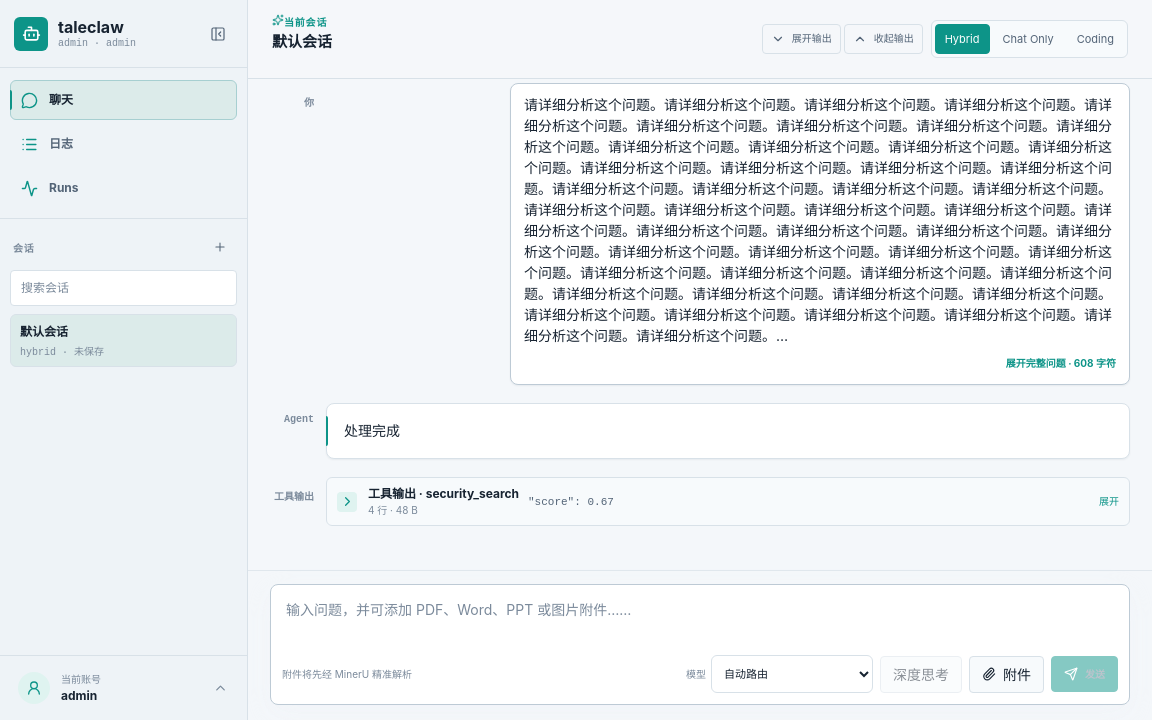
Test: App › opens Logs and Runs and explains the empty state
(page scrolled)
Click the button "日志" at (124, 144), box [10,124,237,164]
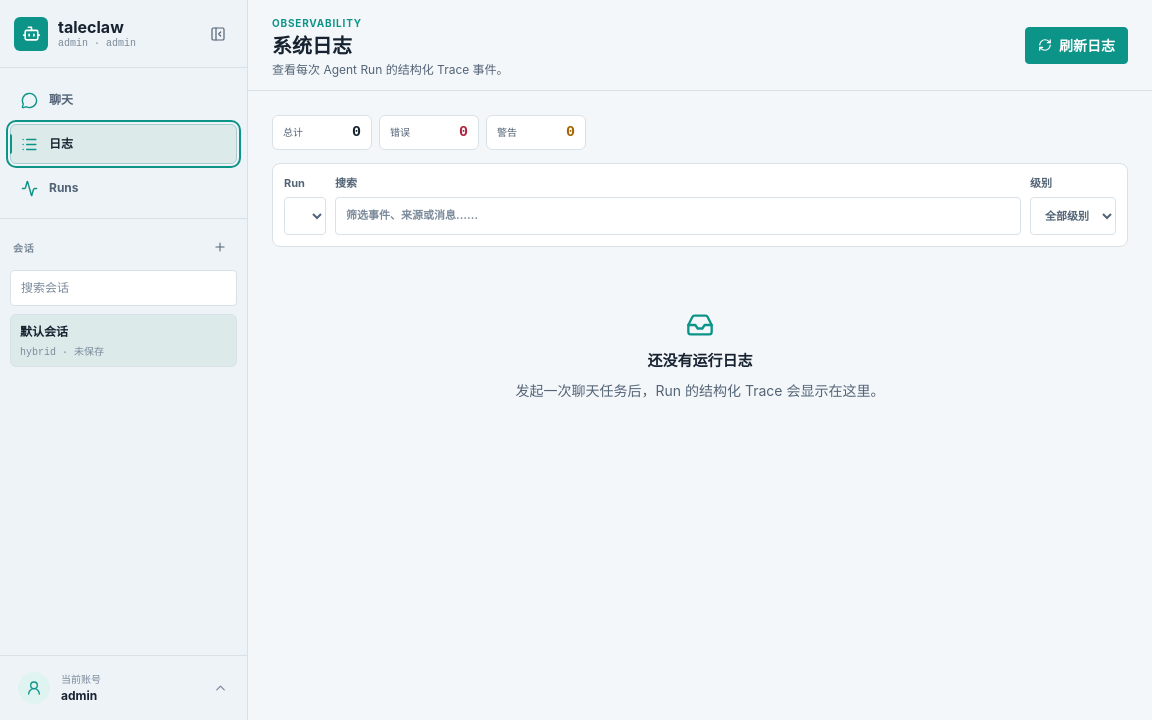
Expected: the heading "系统日志" is shown, [272,34,352,58]
Expected: the heading "还没有运行日志" is shown, [648,350,752,372]
Expected: the text "处理完成" is gone
Click the button "Runs" at (124, 188), box [10,168,237,208]
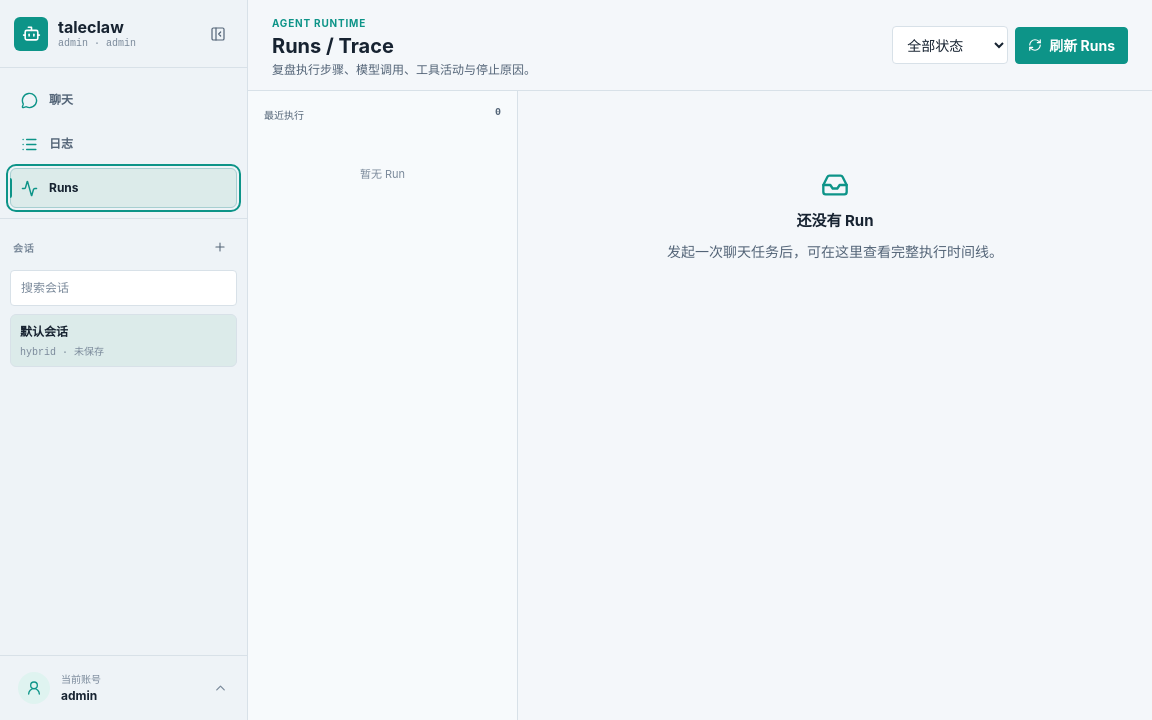
Expected: the heading "Runs / Trace" is shown, [272,34,394,58]
Expected: the heading "还没有 Run" is shown, [796,210,874,232]
Click the button "聊天" at (124, 100), box [10,80,237,120]
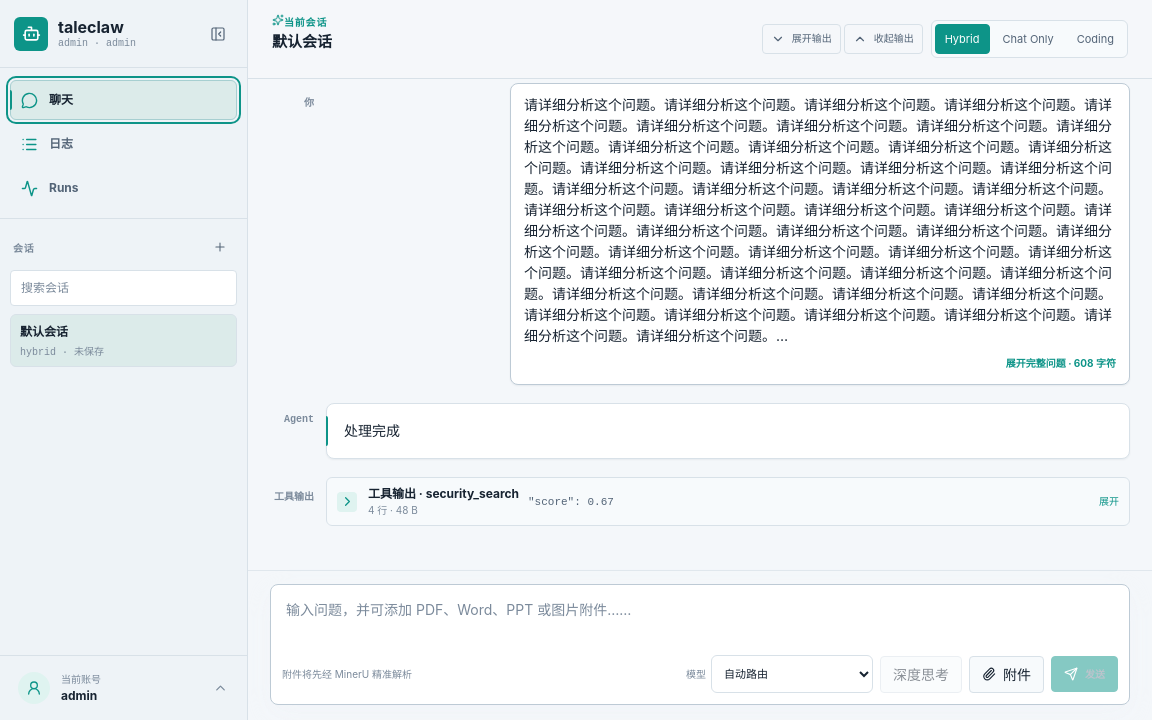
Expected: the text "处理完成" is shown, [344,422,400,439]
